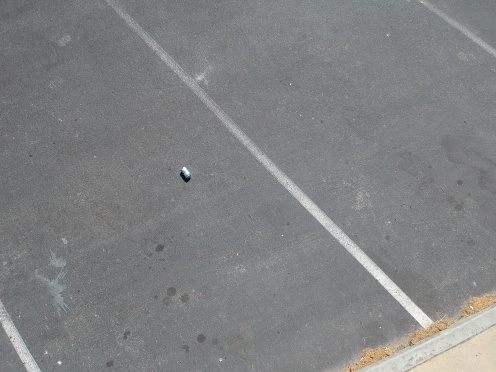can: (175, 165, 198, 180)
